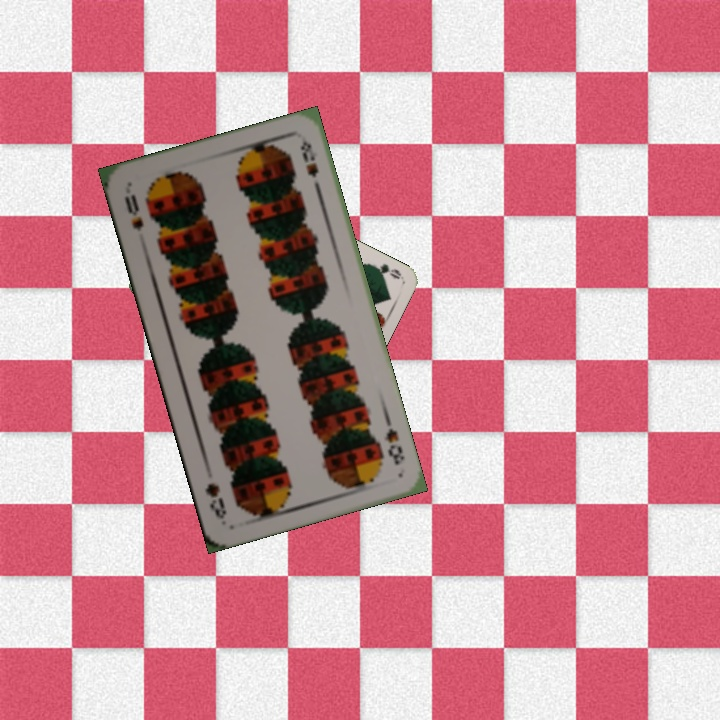GO: (365, 259, 404, 282)
S8: (380, 413, 408, 468), (120, 190, 146, 233)
